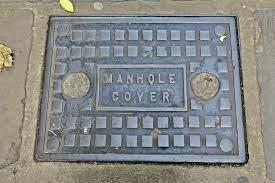closed manhole-not overflowing-: (30, 8, 247, 167)
